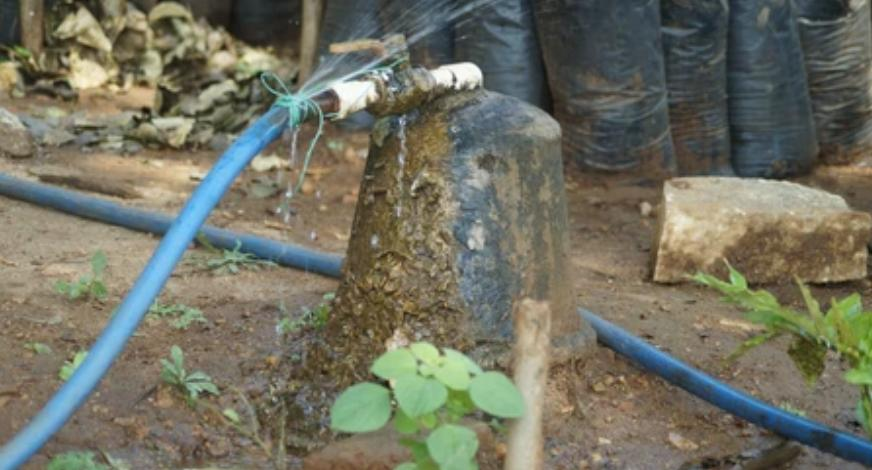pipe burst: (294, 0, 497, 104)
